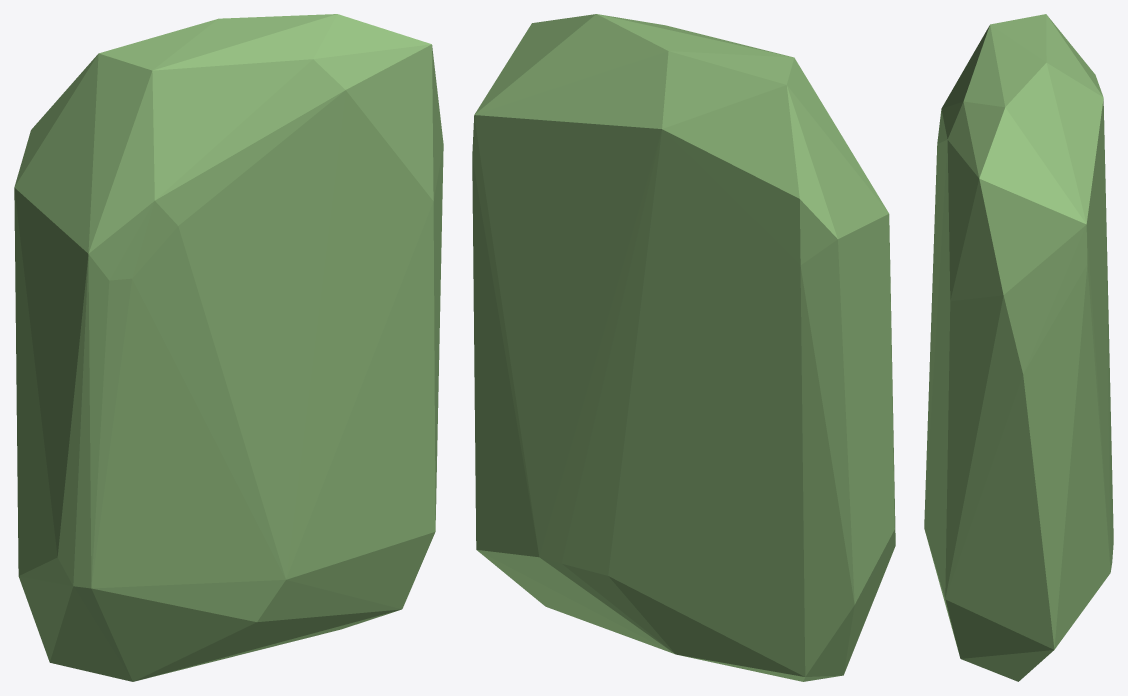
The model's file is prop_cleaning_barSoap_b01.glb.
3 views of the same model, side by side, from view 1: azimuth 30°, elevation 25°; view 2: azimuth 150°, elevation 25°; view 3: azimuth 270°, elevation 25° (orthographic). The views are drawn at different scales.
Parts seen in each view (by area): view 1: geometry_0; view 2: geometry_0; view 3: geometry_0.
Boxes of the visible parts, x1=… form: geometry_0: x1=14, y1=14, x2=443, y2=681; geometry_0: x1=472, y1=14, x2=895, y2=681; geometry_0: x1=924, y1=14, x2=1113, y2=681.
Size of the model in its own units: 0.3225 by 0.479 by 0.1461.
